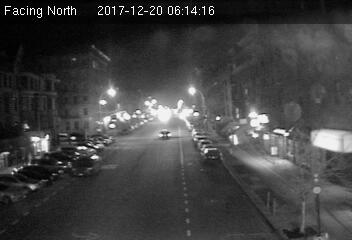car: (70, 155, 103, 176), (157, 129, 173, 139)
